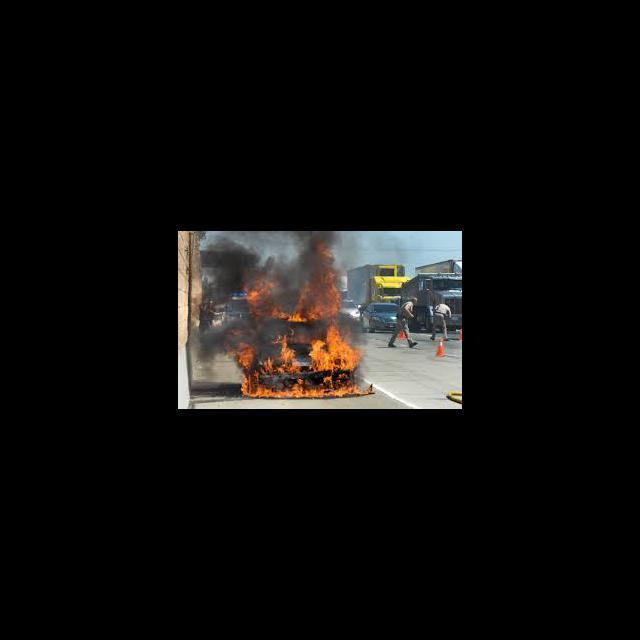Fire: (226, 328, 377, 400), (243, 235, 336, 323)
Smoke: (201, 235, 242, 326), (192, 327, 225, 394), (338, 235, 359, 326)
